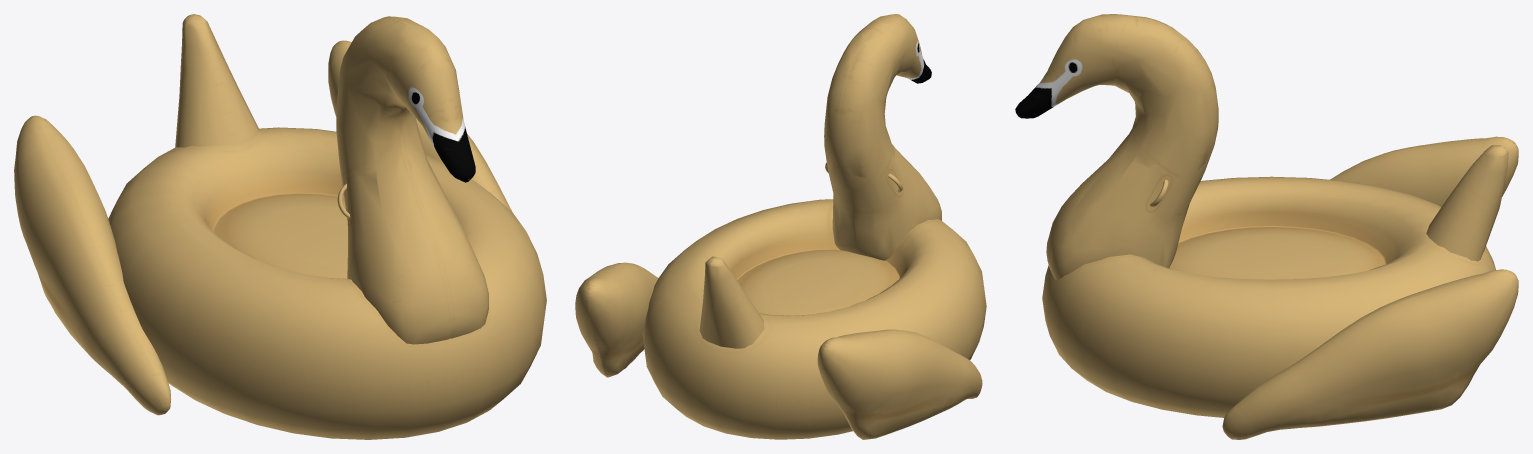
Rendered from PoolFloat10.FBX.
3 views of the same model, side by side, from view 1: azimuth 30°, elevation 25°; view 2: azimuth 150°, elevation 25°; view 3: azimuth 270°, elevation 25° (orthographic). The views are drawn at different scales.
Visible parts, largest first — view 1: PoolFloat10; view 2: PoolFloat10; view 3: PoolFloat10.
Part boxes in pixels (box(x1,y1,x2,y2)): PoolFloat10: box(14, 14, 546, 439); PoolFloat10: box(575, 14, 986, 439); PoolFloat10: box(1015, 14, 1518, 439).
Size of what is drawn, in the model's own units: 1.31 by 1.17 by 1.52.
